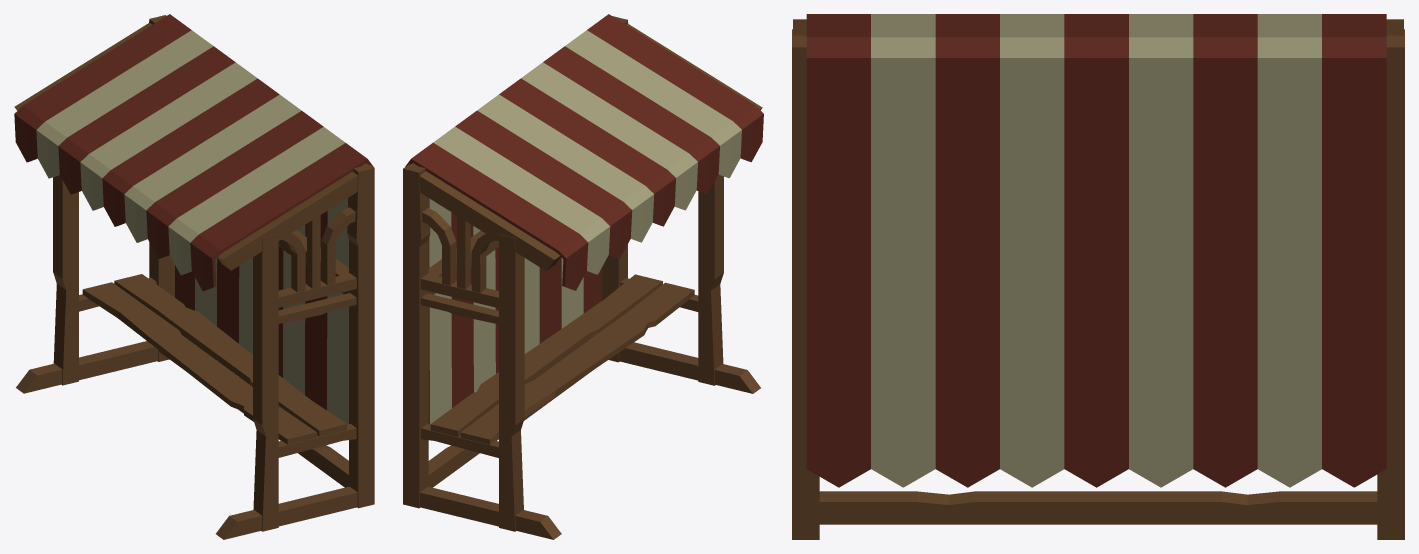
File: MarketStand_2.gltf
3 views of the same model, side by side, from view 1: azimuth 30°, elevation 25°; view 2: azimuth 150°, elevation 25°; view 3: azimuth 270°, elevation 25° (orthographic). The views are drawn at different scales.
Parts seen in each view (by area): view 1: MarketStand_2; view 2: MarketStand_2; view 3: MarketStand_2.
Boxes of the visible parts, x1,y1,x2,y2 form: MarketStand_2: (14, 14, 374, 539); MarketStand_2: (403, 14, 763, 539); MarketStand_2: (792, 14, 1404, 539).
Size of the model in its own units: 0.5172 by 1.04 by 1.15.
